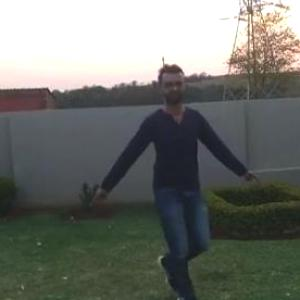land: (113, 78, 234, 255)
